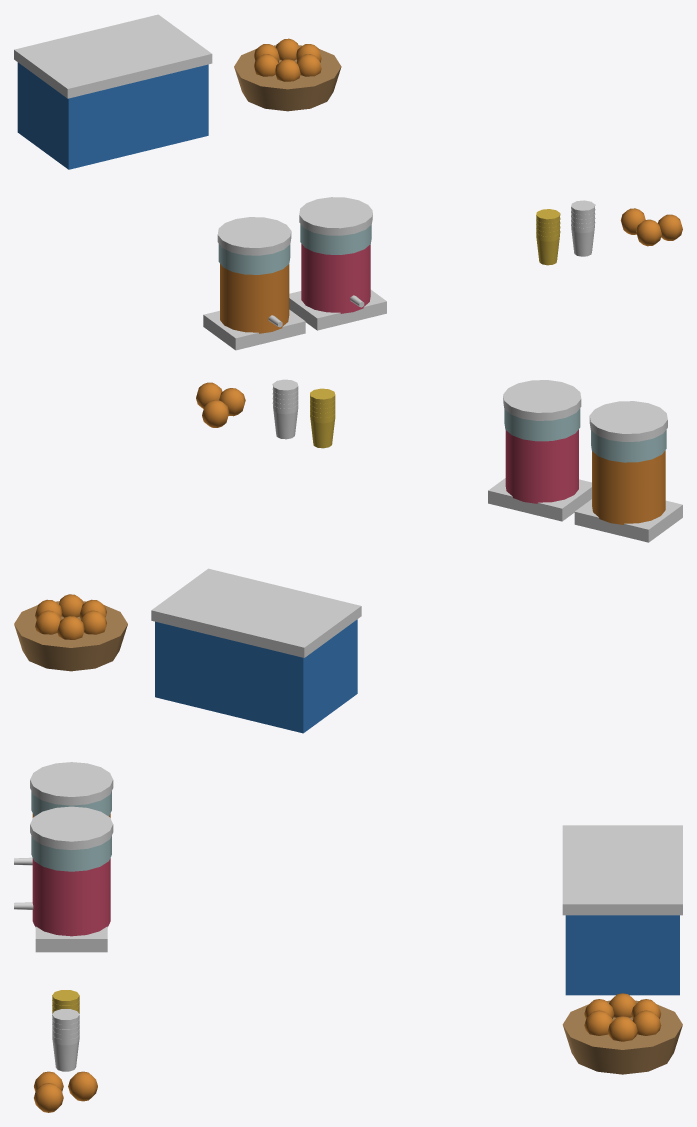
Rendered from goods_juice.glb.
The picture shows the model from 3 angles, top to bottom: view 1: azimuth 30°, elevation 25°; view 2: azimuth 150°, elevation 25°; view 3: azimuth 270°, elevation 25°; orthographic projection. The views are drawn at different scales.
Visible parts, largest first — view 1: goods_juice; view 2: goods_juice; view 3: goods_juice.
Boxes of the visible parts, <box> form: goods_juice: <box>14,14,682,350</box>; goods_juice: <box>14,379,682,733</box>; goods_juice: <box>14,762,682,1112</box>.
Bounding box in the file's own units: 1.94 × 0.4426 × 2.22.
